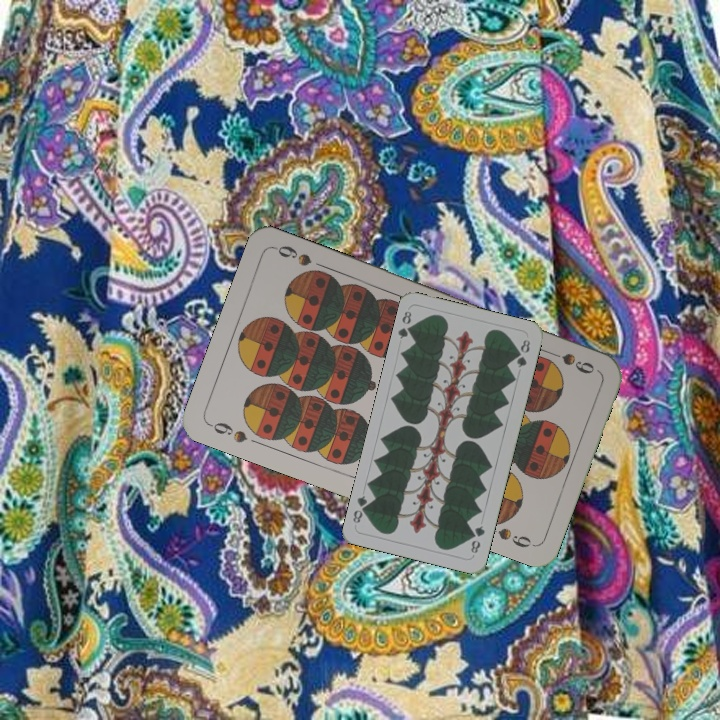G8: (394, 307, 417, 341), (467, 521, 488, 556)
S9: (542, 346, 598, 377), (205, 418, 250, 446)
